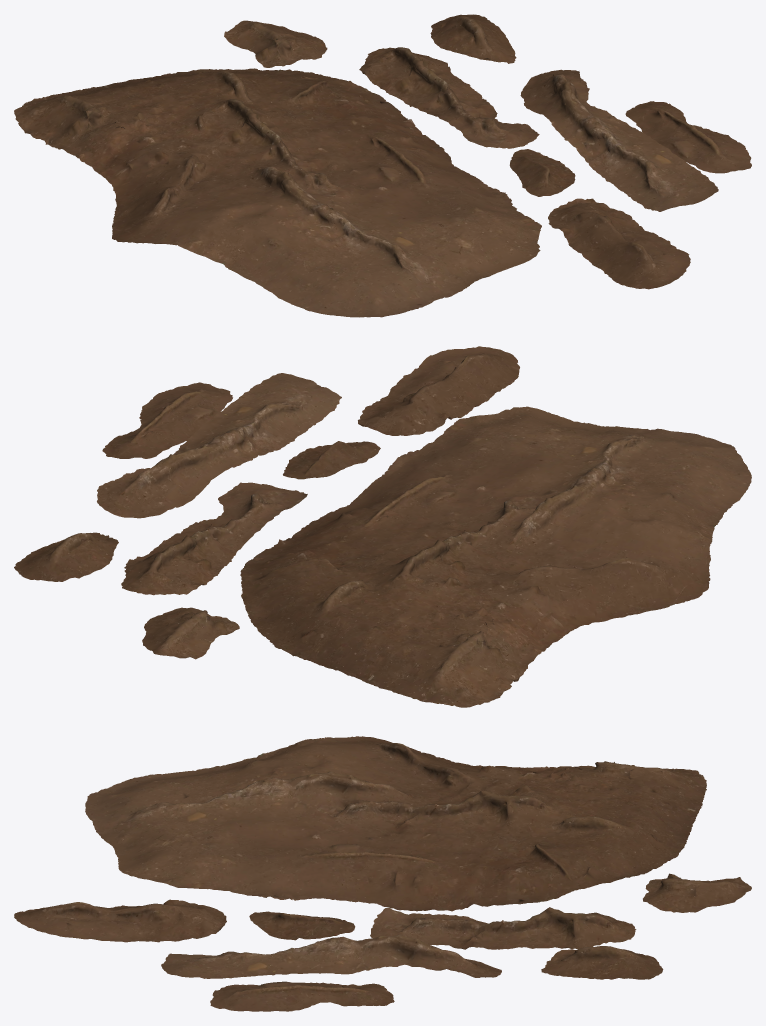
File: root_cluster_02.glb
3 renders of one model, top to bottom at view 1: azimuth 30°, elevation 25°; view 2: azimuth 150°, elevation 25°; view 3: azimuth 270°, elevation 25°, orthographic. The views are drawn at different scales.
Parts seen in each view (by area): view 1: root_cluster_02_a, root_cluster_02_f, root_cluster_02_d, root_cluster_02_b, root_cluster_02_g, root_cluster_02_e, root_cluster_02_h, root_cluster_02_c; view 2: root_cluster_02_a, root_cluster_02_f, root_cluster_02_d, root_cluster_02_b, root_cluster_02_g, root_cluster_02_h, root_cluster_02_e, root_cluster_02_c; view 3: root_cluster_02_a, root_cluster_02_f, root_cluster_02_d, root_cluster_02_b, root_cluster_02_g, root_cluster_02_h, root_cluster_02_e, root_cluster_02_c.
Part boxes in pixels (box(x1,y1,x2,y2)): root_cluster_02_a: box(14, 68, 541, 317); root_cluster_02_f: box(520, 69, 718, 211); root_cluster_02_d: box(359, 47, 539, 148); root_cluster_02_b: box(548, 198, 690, 289); root_cluster_02_g: box(625, 101, 751, 173); root_cluster_02_e: box(224, 20, 327, 67); root_cluster_02_h: box(430, 14, 516, 63); root_cluster_02_c: box(509, 149, 575, 196); root_cluster_02_a: box(240, 406, 751, 707); root_cluster_02_f: box(97, 373, 341, 518); root_cluster_02_d: box(121, 482, 307, 595); root_cluster_02_b: box(358, 346, 519, 435); root_cluster_02_g: box(102, 382, 232, 458); root_cluster_02_h: box(14, 532, 118, 581); root_cluster_02_e: box(142, 607, 239, 659); root_cluster_02_c: box(283, 441, 380, 479); root_cluster_02_a: box(85, 736, 706, 911); root_cluster_02_f: box(161, 934, 501, 978); root_cluster_02_d: box(370, 907, 636, 949); root_cluster_02_b: box(14, 899, 226, 942); root_cluster_02_g: box(210, 981, 394, 1011); root_cluster_02_h: box(541, 946, 663, 979); root_cluster_02_e: box(643, 873, 751, 912); root_cluster_02_c: box(249, 911, 355, 940).
Bounding box in the file's own units: 2.38 × 0.1999 × 2.71.
1 material, 1 textured.
